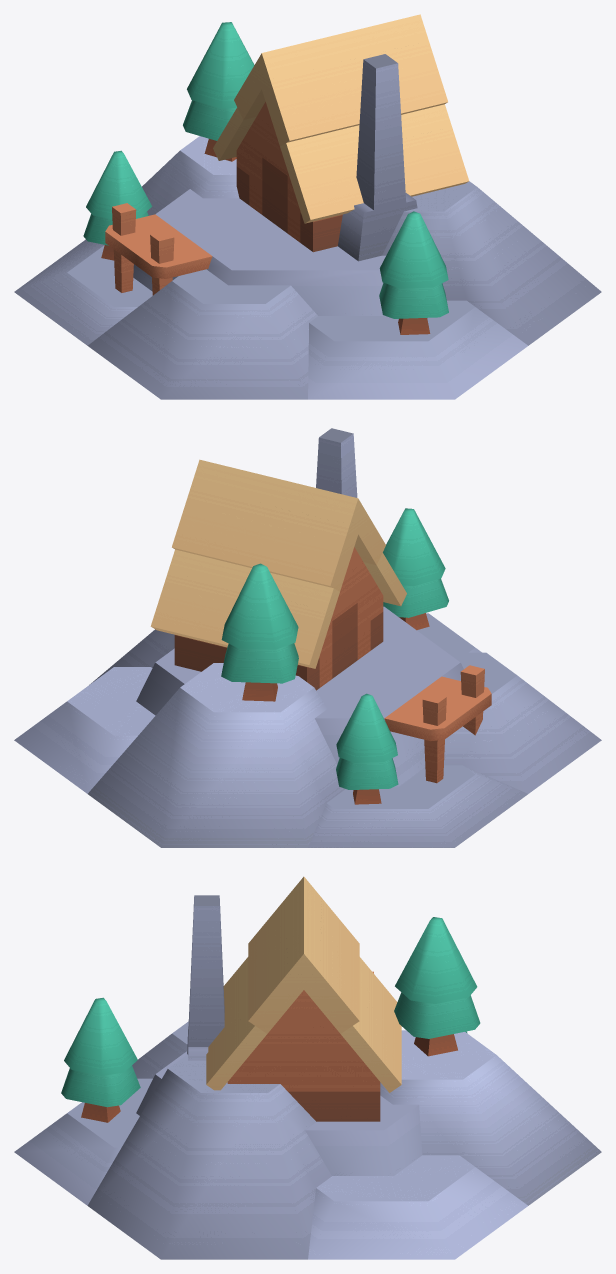
The model's file is hx_building-cabin.glb.
3 renders of one model, top to bottom at view 1: azimuth 30°, elevation 25°; view 2: azimuth 150°, elevation 25°; view 3: azimuth 270°, elevation 25°, orthographic.
Bounding box in the file's own units: 1 × 0.5684 × 1.15.
1 material, 1 textured.
